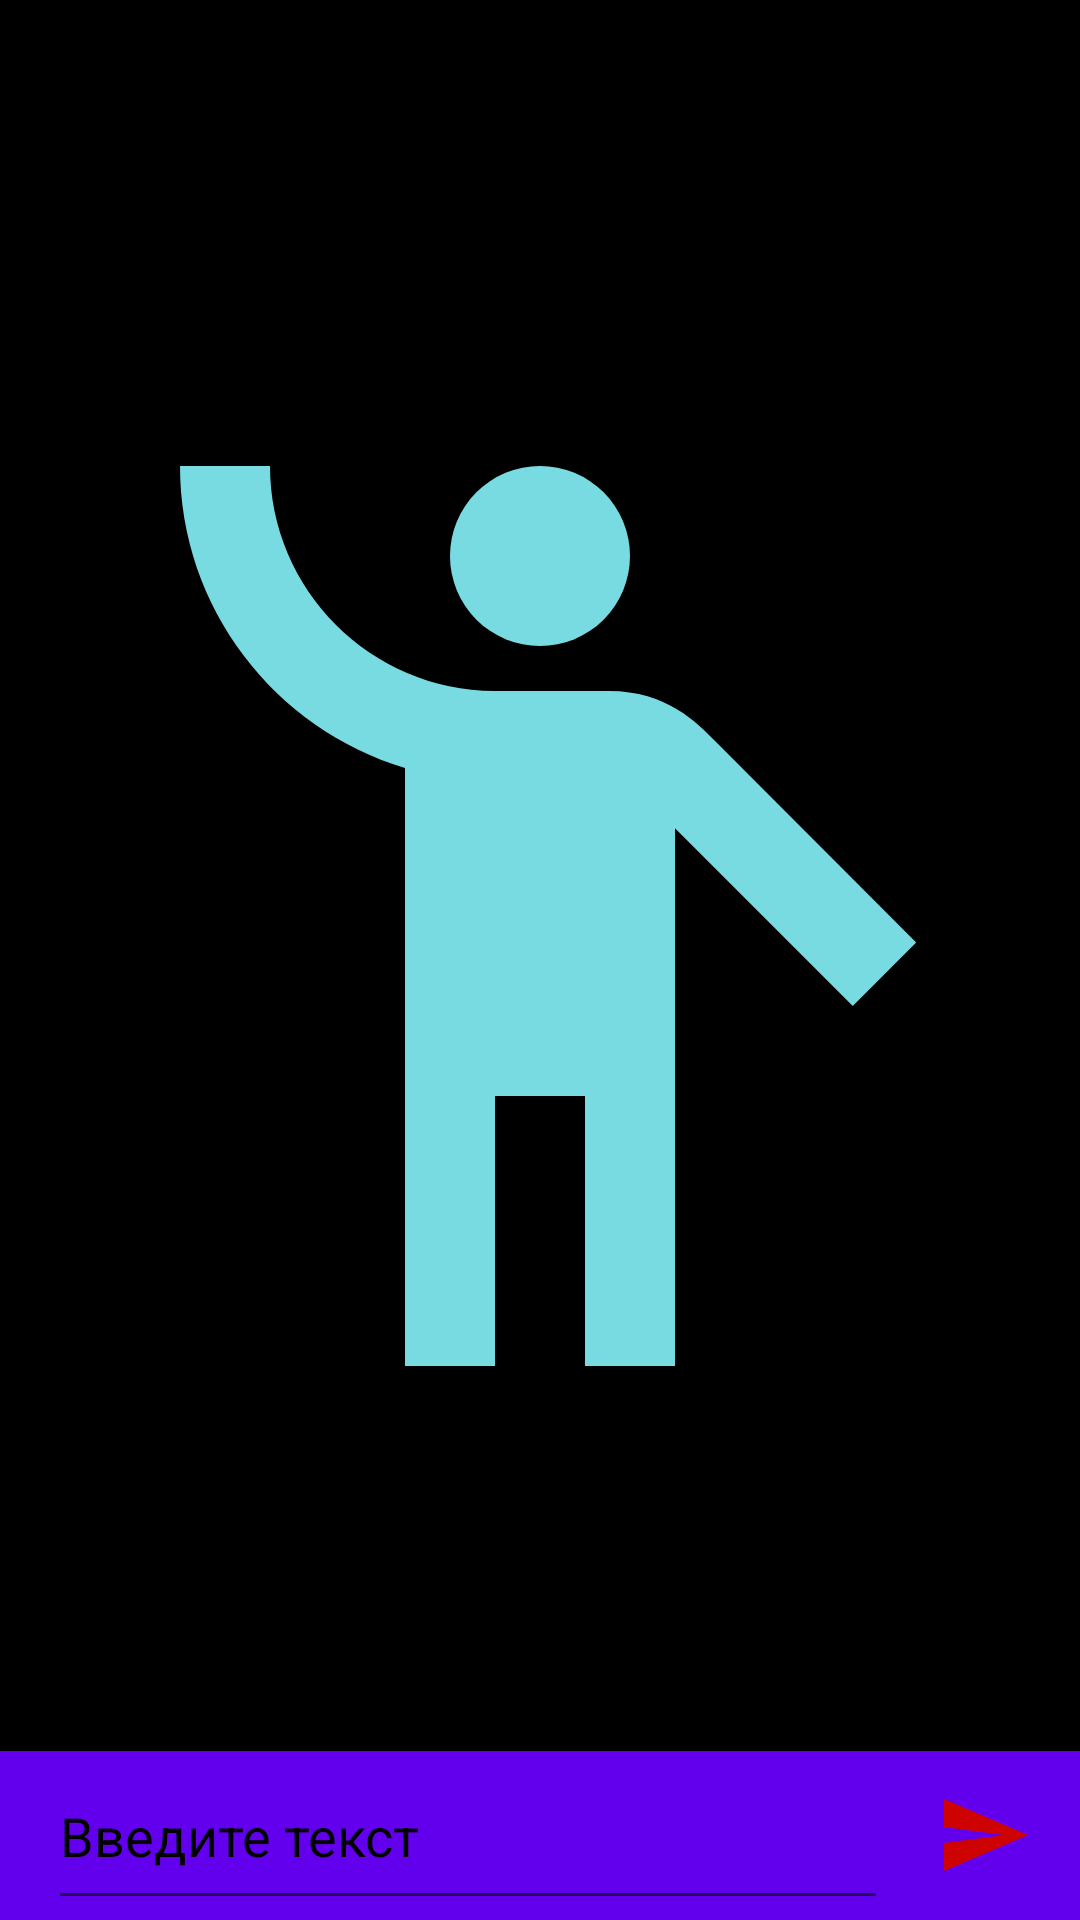

Icons on this 1080 × 1920 Android screen, each with its box as (x1, y1, x2, y2):
send: (944, 1799, 1028, 1871)
